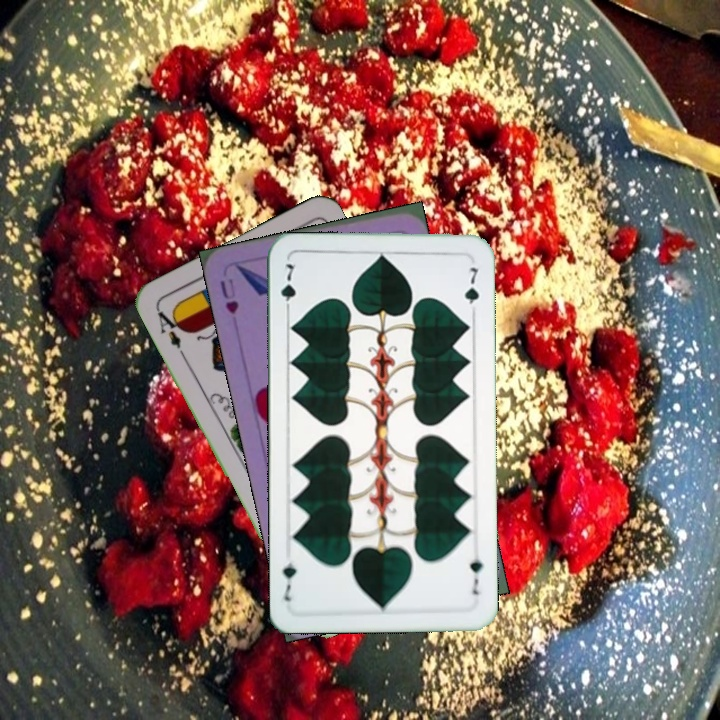EA: (152, 304, 187, 359)
G7: (277, 260, 299, 317), (466, 546, 485, 597)
HU: (216, 274, 242, 317)
